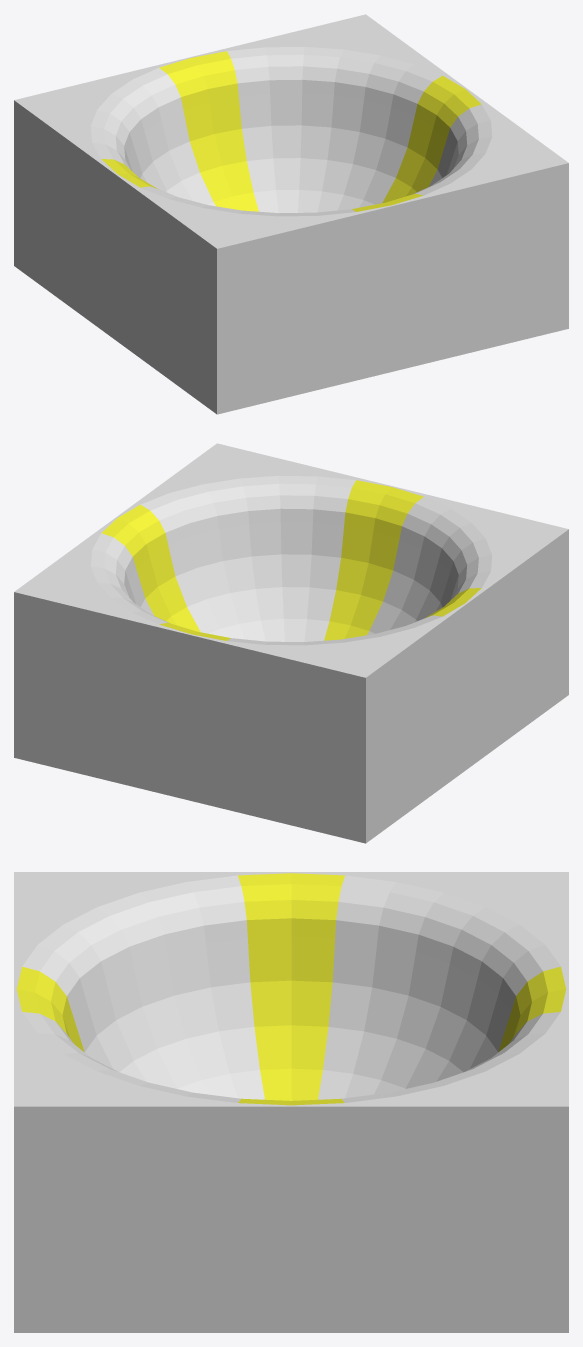
Rendered from RoundHoleCube_40x40x18.fbx.
3 renders of one model, top to bottom at view 1: azimuth 30°, elevation 25°; view 2: azimuth 150°, elevation 25°; view 3: azimuth 270°, elevation 25°, orthographic. The views are drawn at different scales.
Visible parts, largest first — view 1: RoundHoleCube_40x40x18; view 2: RoundHoleCube_40x40x18; view 3: RoundHoleCube_40x40x18.
Part boxes in pixels (bbox=[...]): RoundHoleCube_40x40x18: bbox=[14, 14, 568, 414]; RoundHoleCube_40x40x18: bbox=[14, 443, 568, 843]; RoundHoleCube_40x40x18: bbox=[14, 872, 568, 1332].
Bounding box in the file's own units: 40 × 40 × 18.01.
